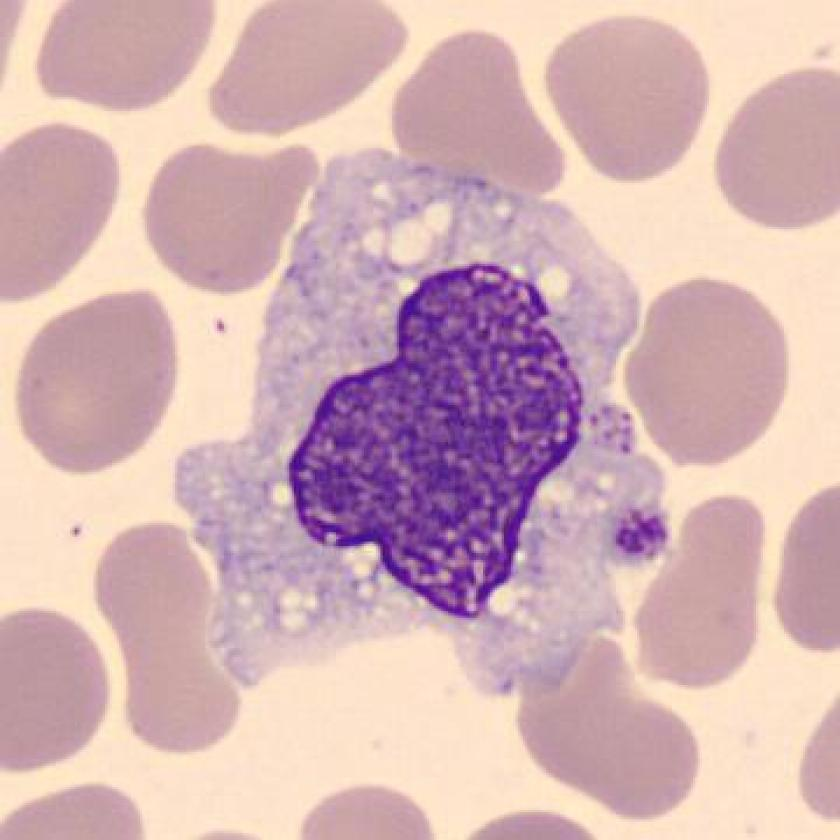monocyte: (162, 126, 692, 718)
